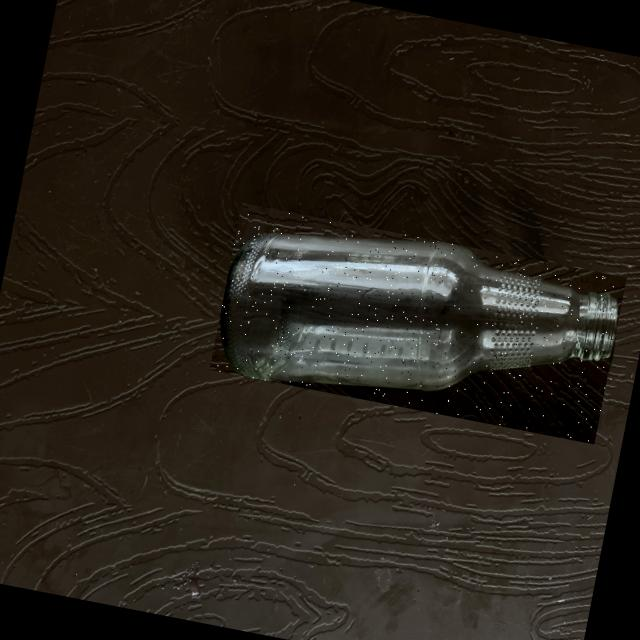Glass_Bottle: (220, 234, 616, 390)
